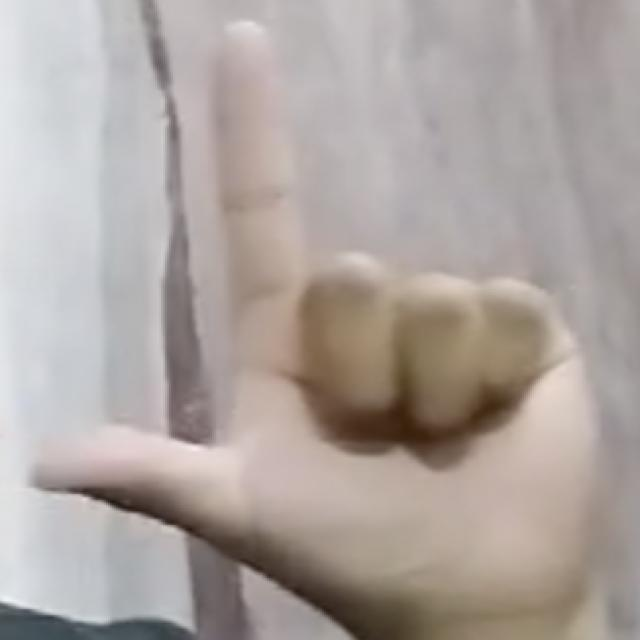LL: (20, 13, 621, 615)
